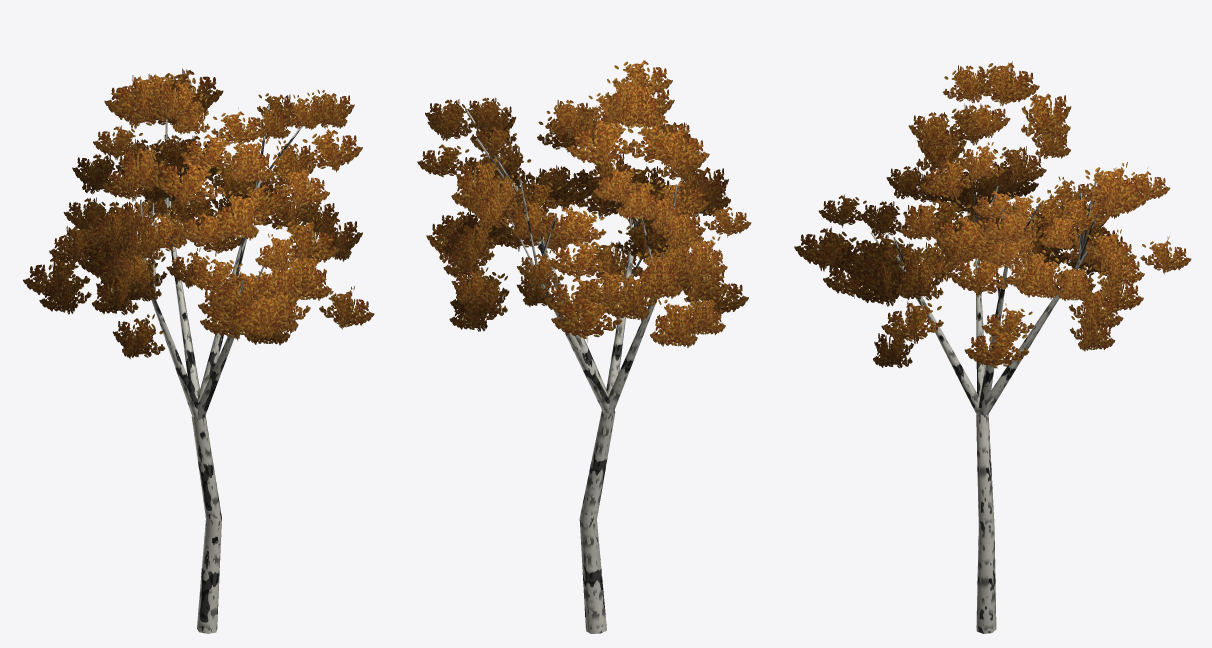
The model's file is birch0_autumn_lod0.fbx.
3 renders of one model, left to right at view 1: azimuth 30°, elevation 25°; view 2: azimuth 150°, elevation 25°; view 3: azimuth 270°, elevation 25°, orthographic. The views are drawn at different scales.
Visible parts, largest first — view 1: birch0_autumn_lod0; view 2: birch0_autumn_lod0; view 3: birch0_autumn_lod0.
Part boxes in pixels (x1,y1,x2,y2): birch0_autumn_lod0: [23, 68, 374, 633]; birch0_autumn_lod0: [417, 60, 751, 633]; birch0_autumn_lod0: [794, 61, 1191, 633].
Bounding box in the file's own units: 7.61 × 13.39 × 8.68.
2 materials, 2 textured.
